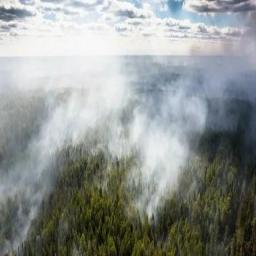Low smoke: (0, 0, 255, 250)
